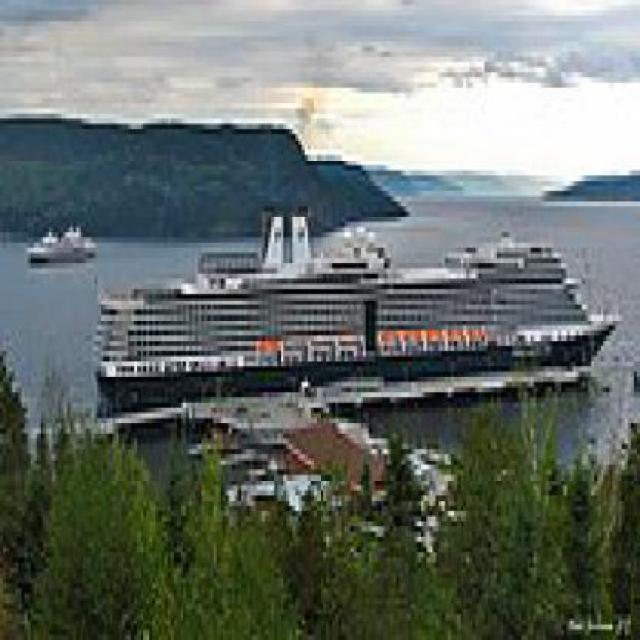cruise: (81, 192, 630, 404)
